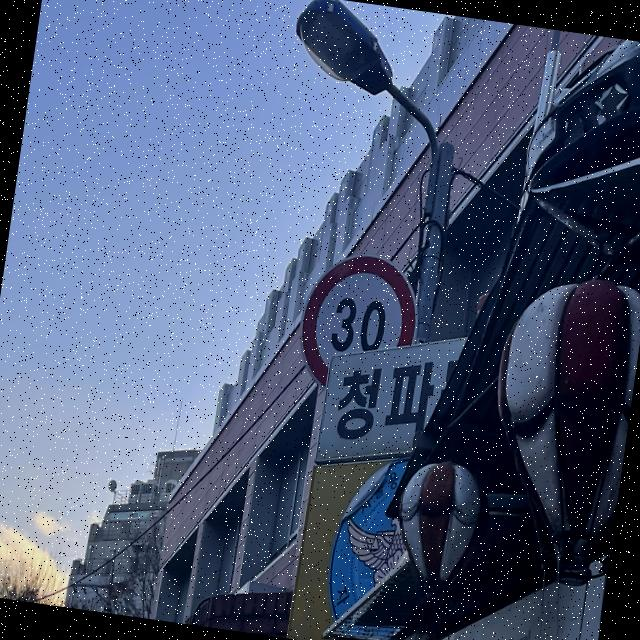Ograniczenie predkosci do 30: (300, 253, 422, 379)
